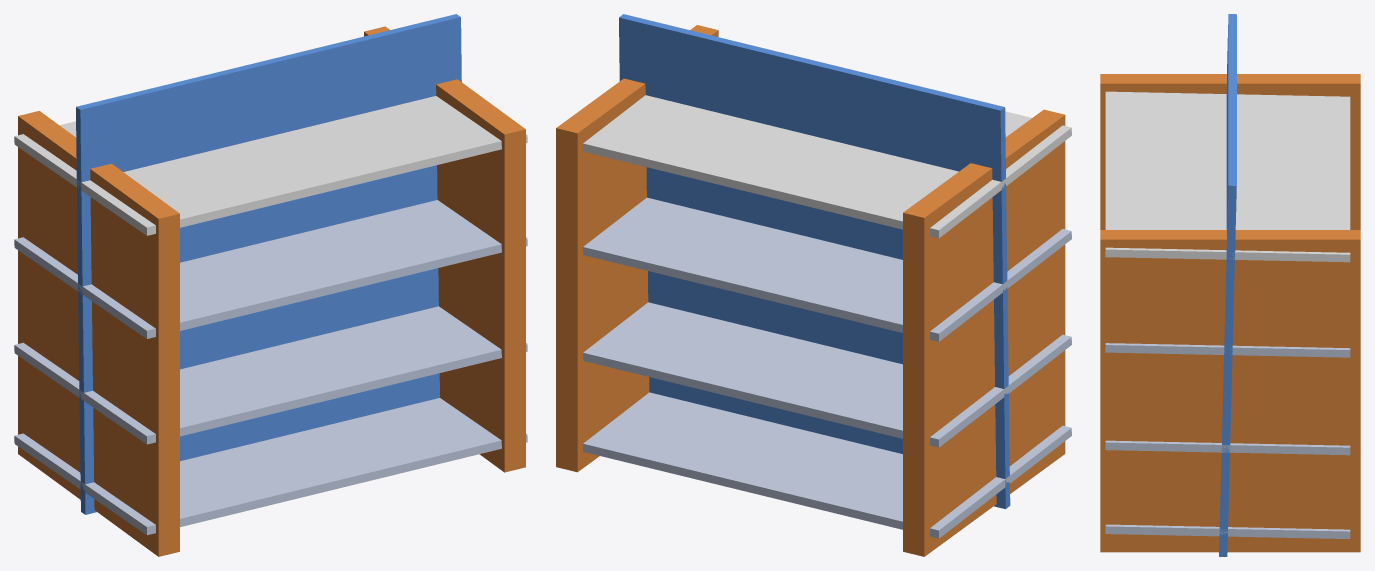
Rendered from show_cabinet.glb.
3 renders of one model, left to right at view 1: azimuth 30°, elevation 25°; view 2: azimuth 150°, elevation 25°; view 3: azimuth 270°, elevation 25°, orthographic. The views are drawn at different scales.
Parts seen in each view (by area): view 1: Cube.030, Cube.034, Cube.033, Cube.035, Cube.032, Cube.029, Cube.031; view 2: Cube.030, Cube.034, Cube.033, Cube.031, Cube.029, Cube.032, Cube.035; view 3: Cube.035, Cube.033, Cube.034, Cube.030, Cube.029, Cube.031, Cube.032.
Boxes of the visible parts, bbox=[...] form: Cube.030: bbox=[76, 14, 461, 514]; Cube.034: bbox=[18, 111, 179, 556]; Cube.033: bbox=[14, 96, 527, 235]; Cube.035: bbox=[364, 26, 525, 472]; Cube.032: bbox=[14, 200, 527, 338]; Cube.029: bbox=[14, 306, 527, 444]; Cube.031: bbox=[14, 398, 527, 535]; Cube.030: bbox=[619, 14, 1010, 509]; Cube.034: bbox=[903, 109, 1065, 556]; Cube.033: bbox=[583, 95, 1071, 238]; Cube.031: bbox=[583, 392, 1071, 538]; Cube.029: bbox=[583, 302, 1071, 447]; Cube.032: bbox=[583, 197, 1071, 341]; Cube.035: bbox=[556, 25, 718, 472]; Cube.035: bbox=[1100, 230, 1360, 552]; Cube.033: bbox=[1105, 91, 1350, 262]; Cube.034: bbox=[1100, 74, 1360, 229]; Cube.030: bbox=[1219, 14, 1236, 556]; Cube.029: bbox=[1105, 440, 1350, 455]; Cube.031: bbox=[1105, 524, 1350, 538]; Cube.032: bbox=[1105, 343, 1350, 357].
Bounding box in the file's own units: 0.4616 × 0.4652 × 0.2954.
